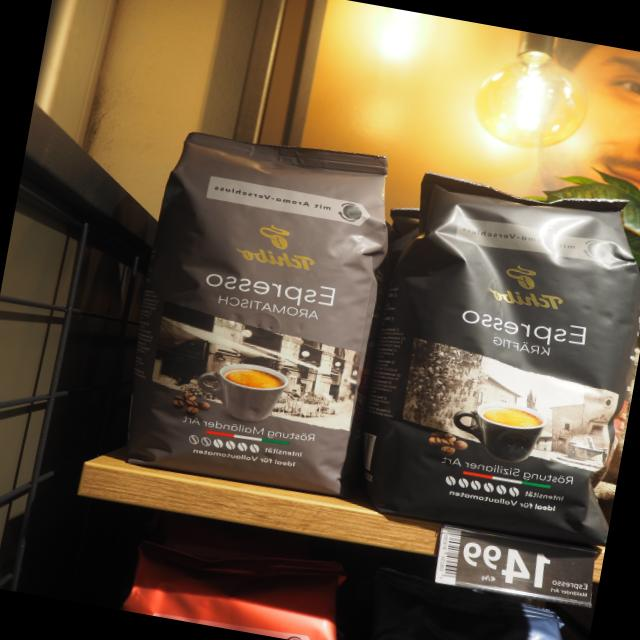Espresso Aromatisch: (104, 115, 406, 502)
Espresso Kraftig: (348, 154, 640, 554)
